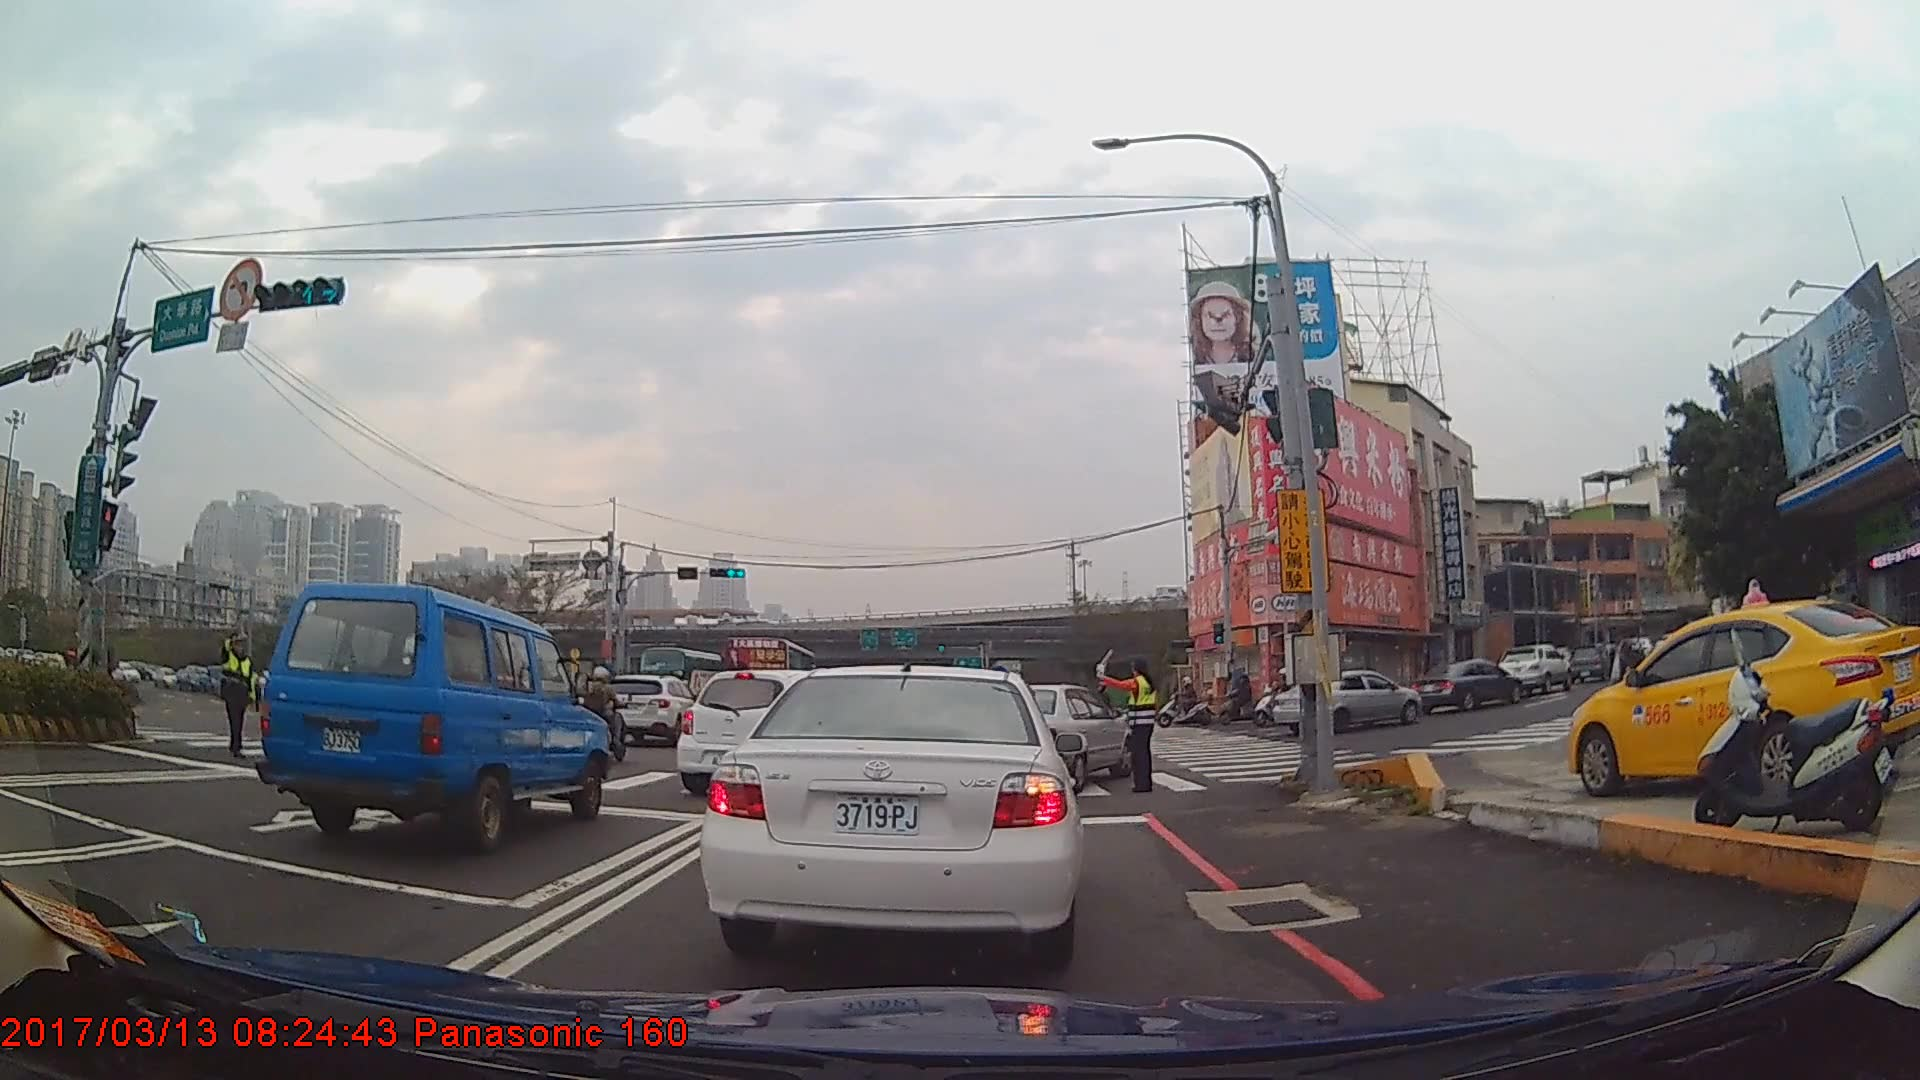pedestrian: (1102, 653, 1159, 792), (215, 633, 256, 759), (1601, 626, 1642, 725)
rider: (572, 665, 634, 758), (1253, 667, 1303, 725), (1160, 675, 1212, 730), (1220, 671, 1265, 727)
vehicle: (701, 661, 1082, 960), (251, 577, 610, 851), (1567, 598, 1920, 797), (675, 667, 871, 796), (993, 682, 1132, 788), (1270, 669, 1421, 737), (723, 635, 818, 718), (593, 673, 701, 743), (1413, 658, 1520, 714), (1499, 644, 1573, 696), (1567, 641, 1618, 683)
